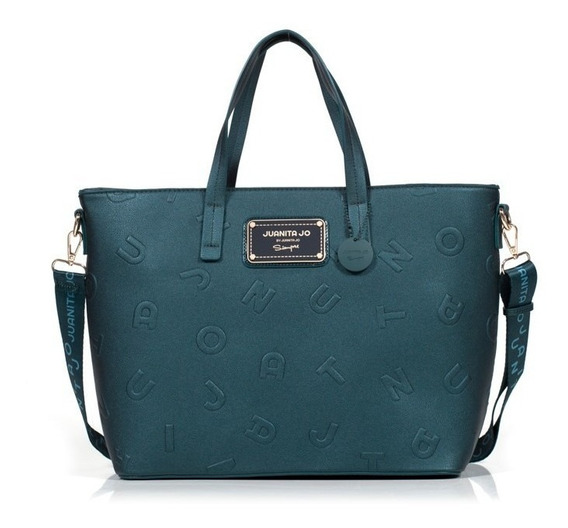cartera: (52, 27, 540, 483)
